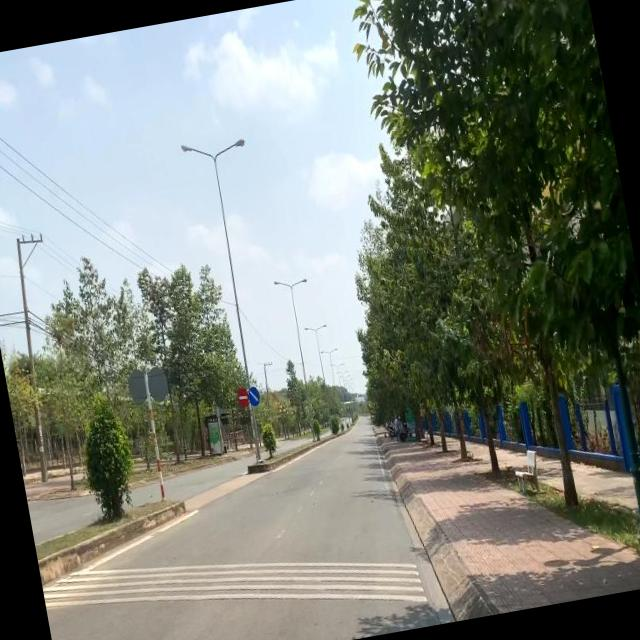P-102: (234, 386, 250, 406)
R-302a: (246, 383, 262, 407)
